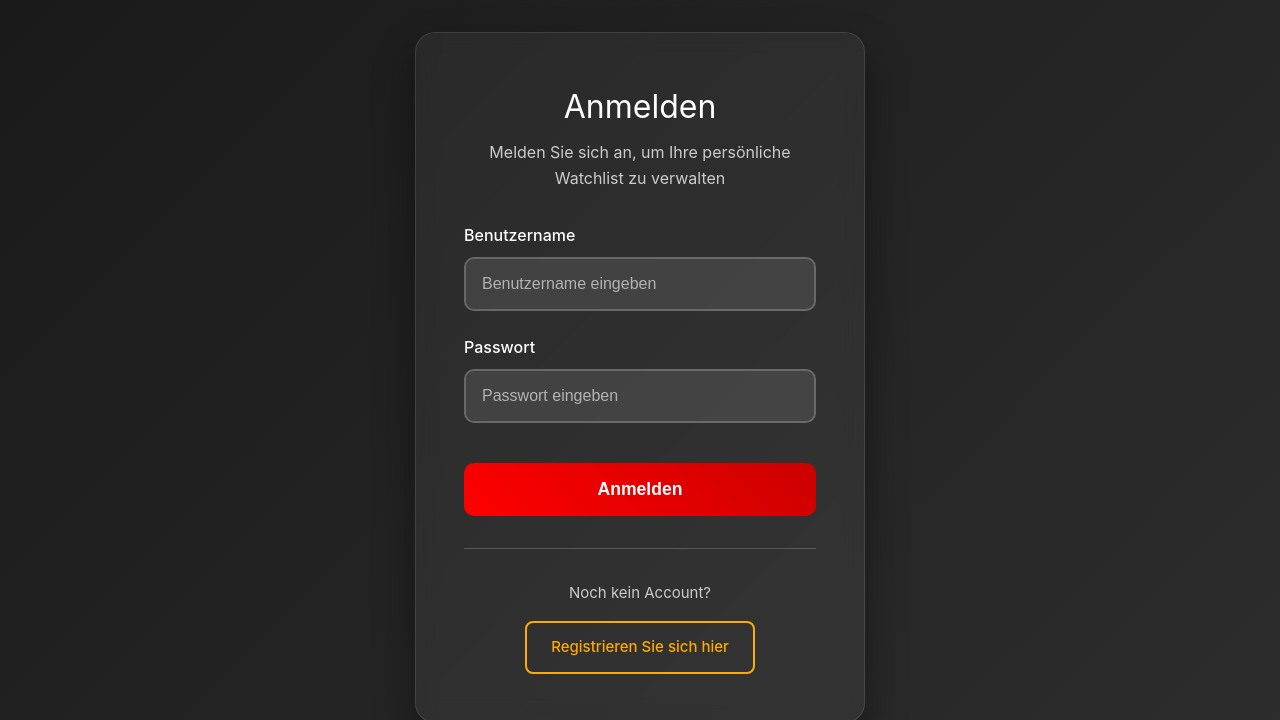
Test: LoginComponent › sollte Fehler bei ungültigen Anmeldedaten anzeigen
Type "wronguser" into the field labelled "Benutzername" at (640, 284), box [464,257,816,311]
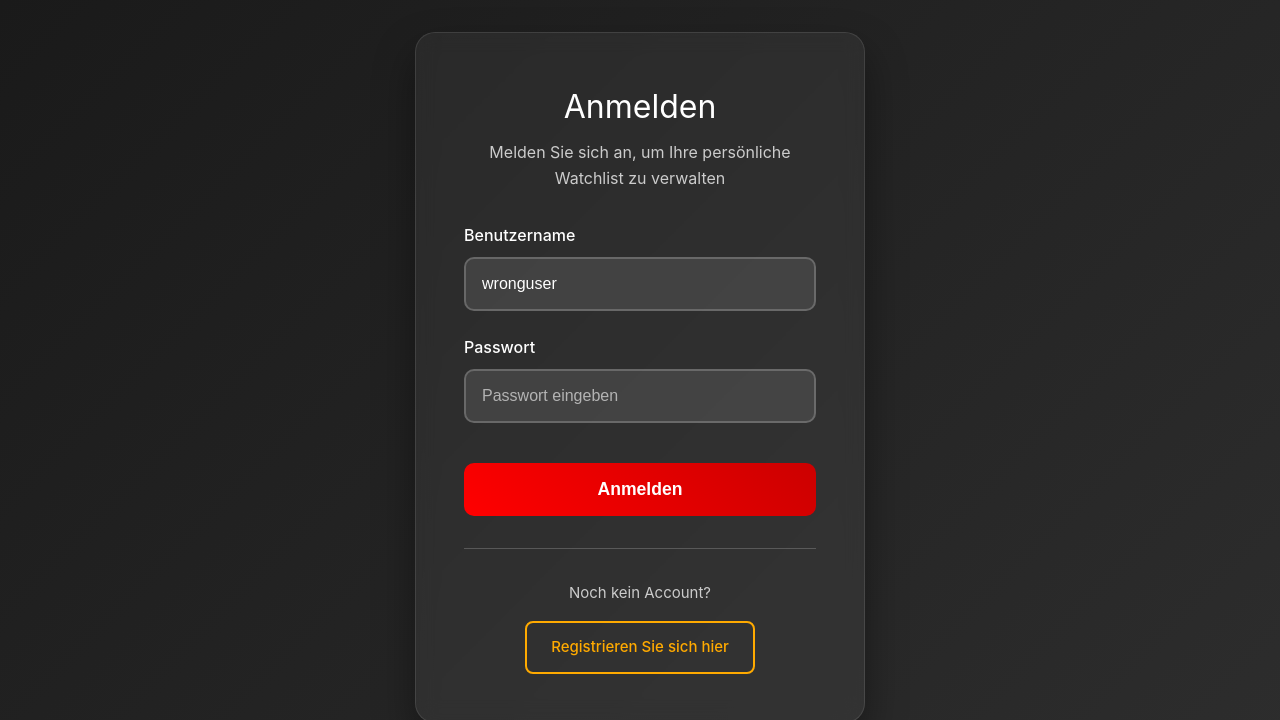
Type "wrongpassword" into the password field labelled "Passwort" at (640, 396), box [464,369,816,423]
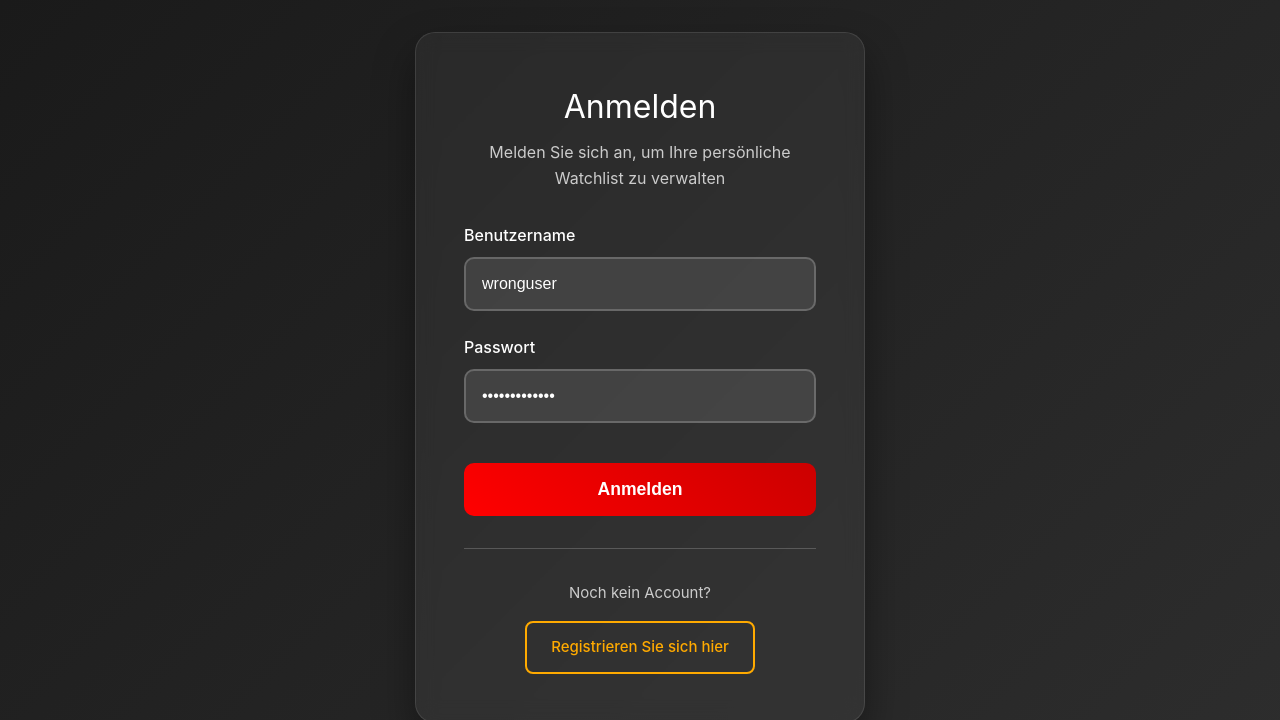
Submit the form, box [464,223,816,516]
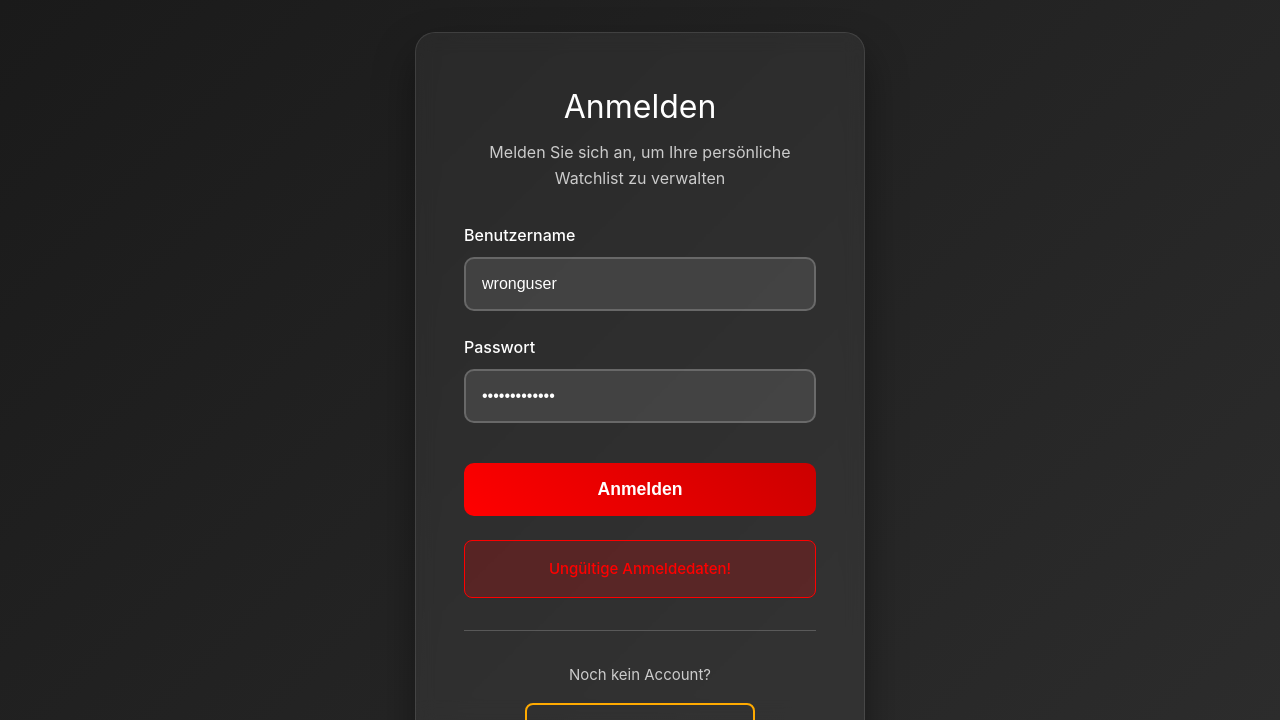
Expected: the text with class "error-message" reads "Ungültige Anmeldedaten!", [549,559,731,578]
